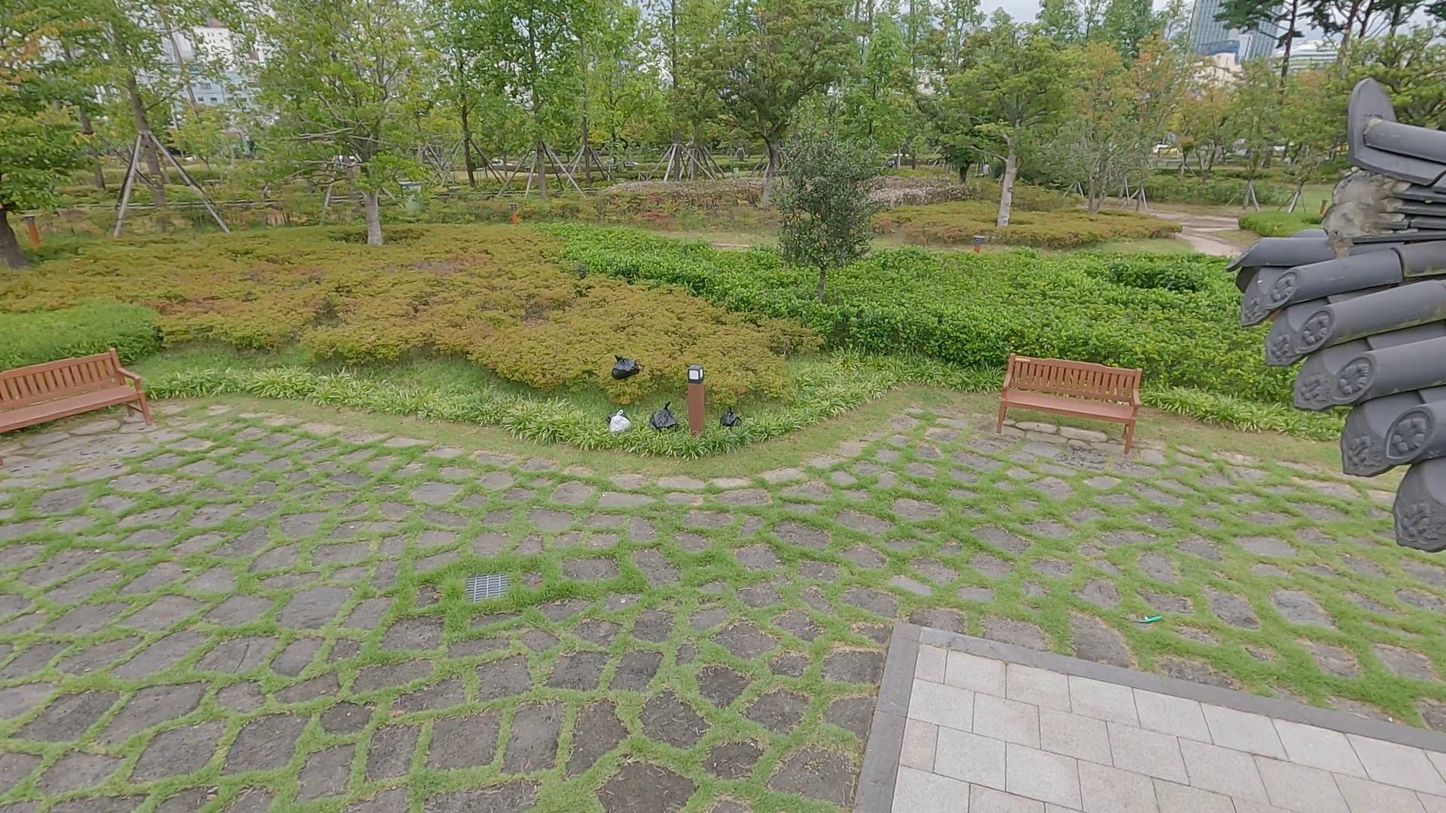trash: (647, 397, 679, 434), (607, 352, 640, 379), (607, 412, 633, 438), (716, 408, 746, 430)
